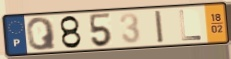3: (119, 12, 143, 46)
5: (87, 11, 114, 49)
8: (59, 15, 83, 50)
I: (153, 9, 166, 45)
L: (178, 9, 203, 42)
Q: (25, 16, 58, 52)
